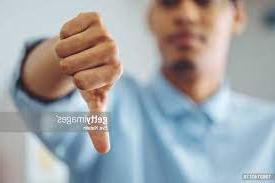Thumbs-Down: (56, 8, 122, 152)
